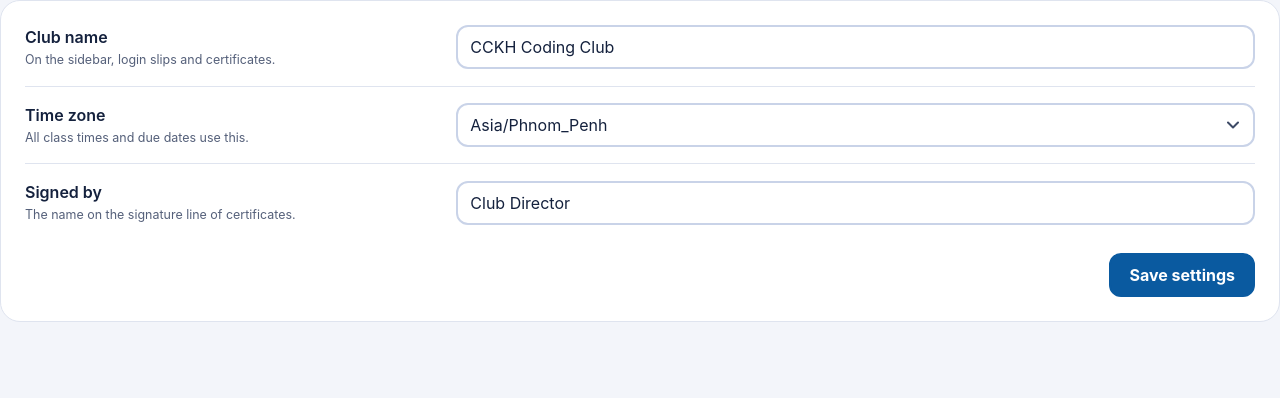
Scenario: SettingsForm › sends the form and confirms when saved
The width and height of the screenshot is (1280, 398).
Replace the text in the field labelled "Club name" with "CCKH Weekend Club" at [856, 47], box [456,25,1255,69]
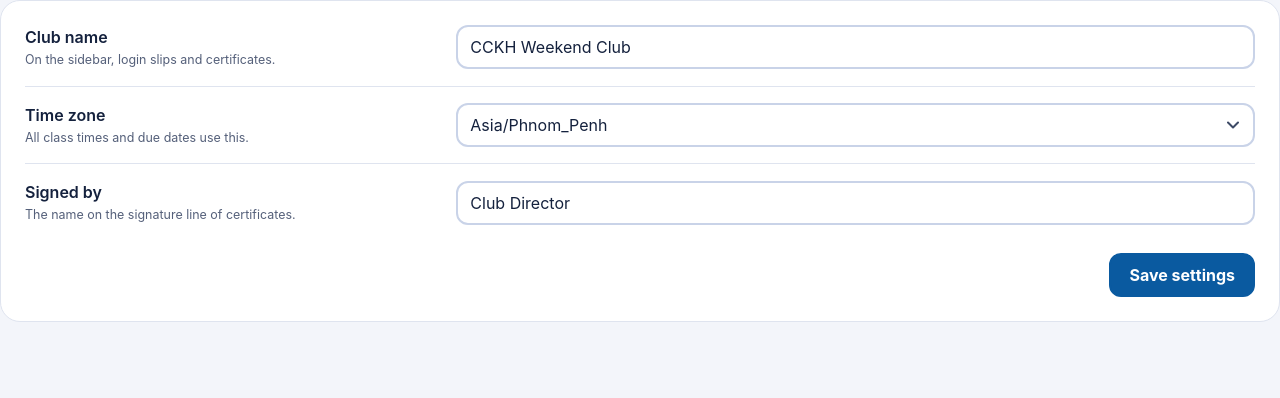
Click the button "Save settings" at [1182, 275], box [1110,253,1255,297]
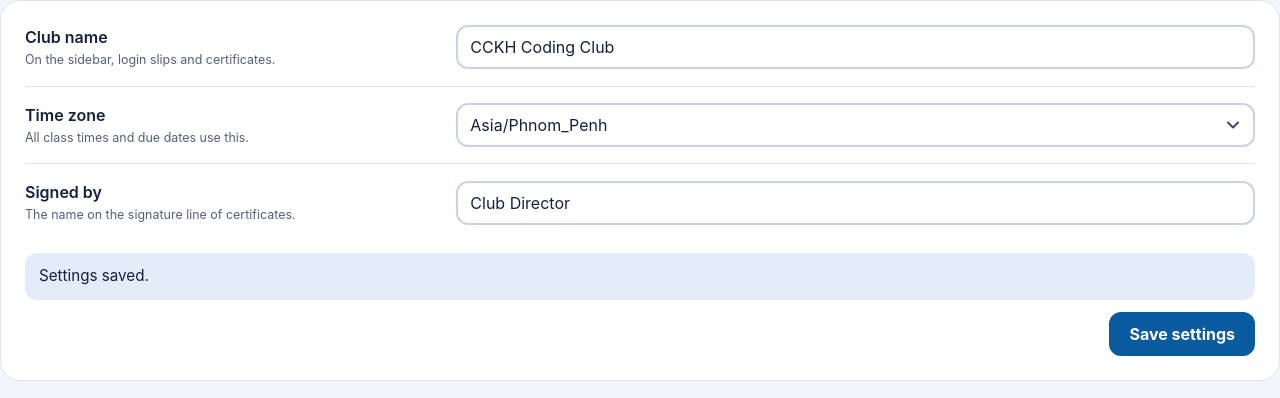
Expected: the text "Asia/Phnom_Penh" is shown, [470,113,607,137]
Result: the message reads "Settings saved." at [39,266,149,285]
